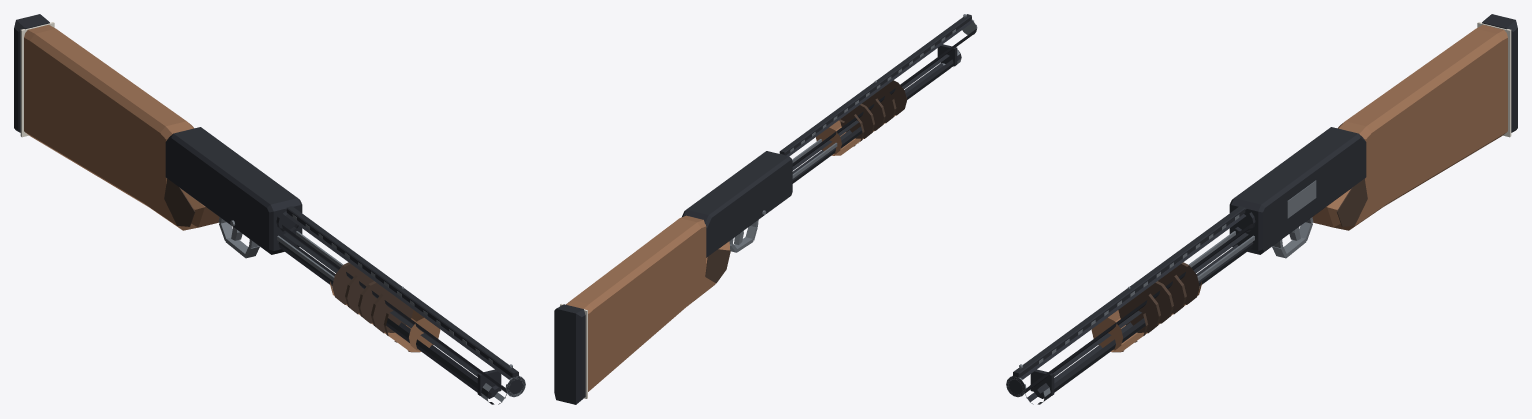
The model's file is shotgun.glb.
The picture shows the model from 3 angles, left to right: view 1: azimuth 30°, elevation 25°; view 2: azimuth 150°, elevation 25°; view 3: azimuth 330°, elevation 25°; orthographic projection. The views are drawn at different scales.
Visible parts, largest first — view 1: shotgun_mesh, PUMP; view 2: shotgun_mesh, PUMP; view 3: shotgun_mesh, PUMP.
Boxes of the visible parts, x1,y1,x2,y2 form: shotgun_mesh: [14, 14, 525, 404]; PUMP: [277, 231, 440, 352]; shotgun_mesh: [554, 14, 977, 404]; PUMP: [792, 80, 906, 178]; shotgun_mesh: [1006, 14, 1517, 404]; PUMP: [1091, 231, 1254, 352].
Size of the model in its own units: 0.0556 by 0.1478 by 1.12.
1 material, 1 textured.
